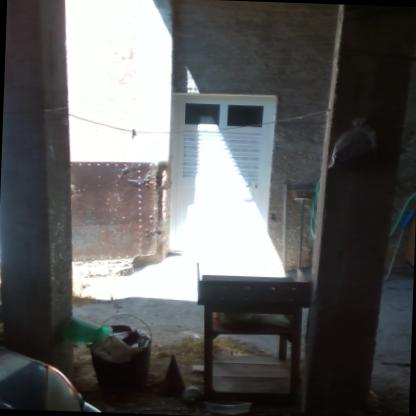closed: (148, 80, 282, 270)
